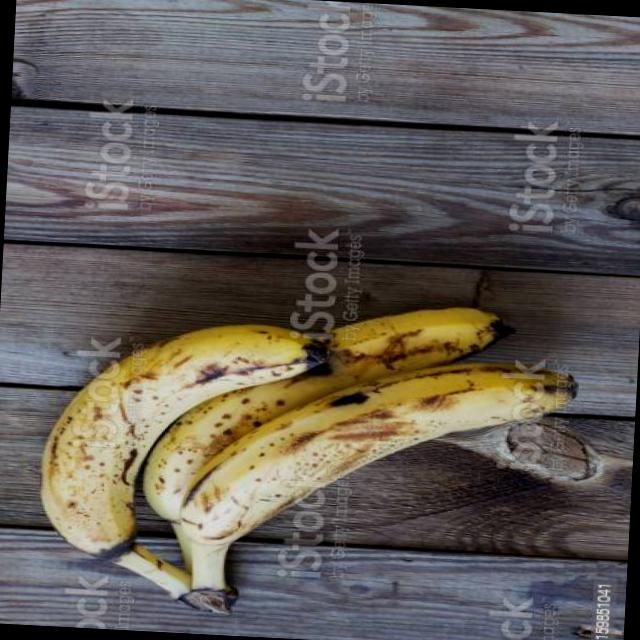banana: (25, 281, 587, 638)
